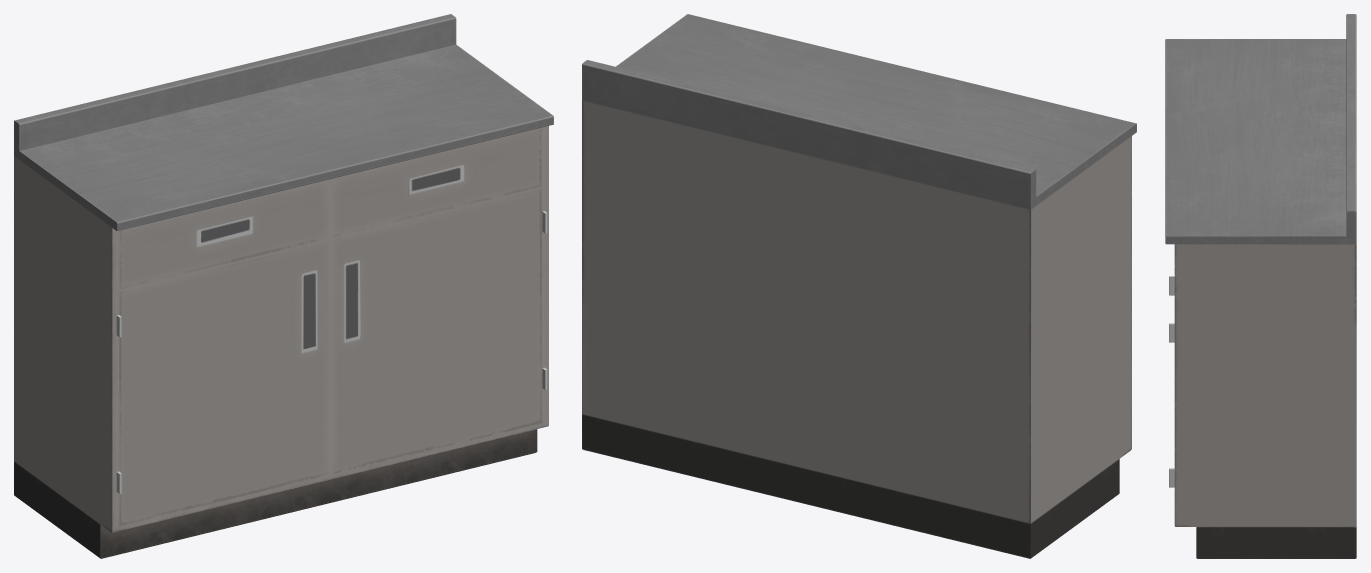
Rendered from LabTable.fbx.
The picture shows the model from 3 angles, left to right: view 1: azimuth 30°, elevation 25°; view 2: azimuth 150°, elevation 25°; view 3: azimuth 270°, elevation 25°; orthographic projection. The views are drawn at different scales.
Visible parts, largest first — view 1: Cabinet_Low; view 2: Cabinet_Low; view 3: Cabinet_Low, Joint_Low.
Part boxes in pixels (left/top/right/bottom): Cabinet_Low: left=14, top=14, right=553, bottom=558; Cabinet_Low: left=582, top=14, right=1136, bottom=558; Cabinet_Low: left=1165, top=14, right=1356, bottom=558; Joint_Low: left=1169, top=276, right=1174, bottom=487.
Bounding box in the file's own units: 128 × 106 × 52.5.
Materials: 1 (1 with a texture image).
